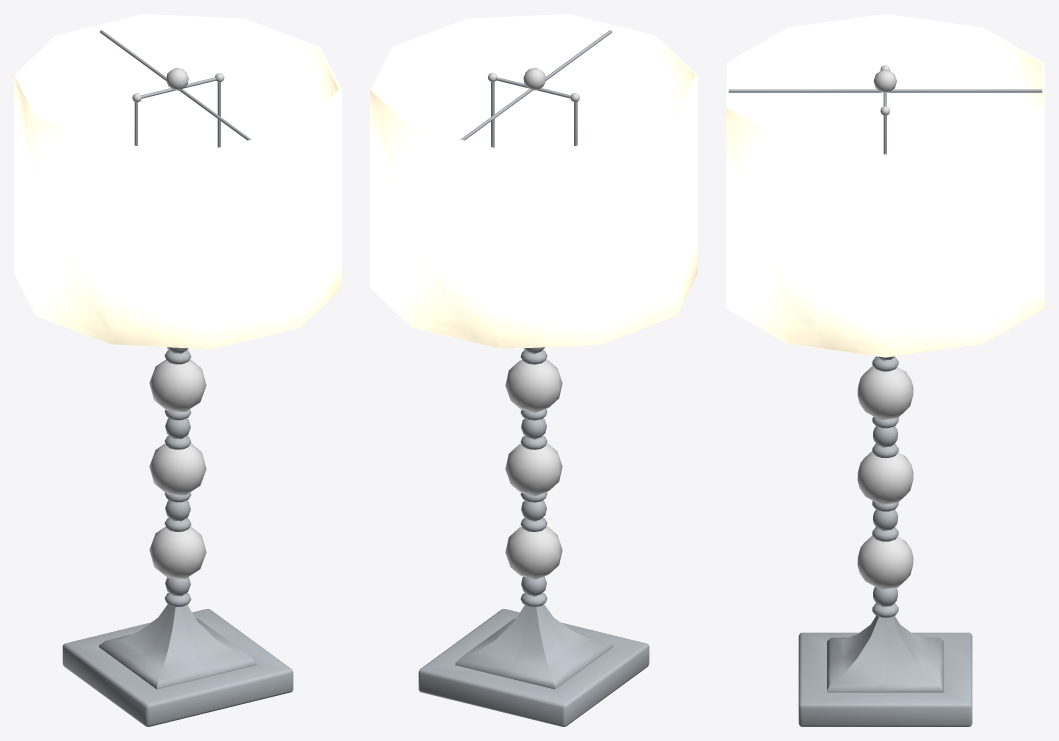
The model's file is Lights_Table_Lamps_4.fbx.
3 views of the same model, side by side, from view 1: azimuth 30°, elevation 25°; view 2: azimuth 150°, elevation 25°; view 3: azimuth 270°, elevation 25° (orthographic).
Visible parts, largest first — view 1: Cylinder.031; view 2: Cylinder.031; view 3: Cylinder.031.
Part boxes in pixels (bbox=[...]): Cylinder.031: bbox=[14, 14, 341, 726]; Cylinder.031: bbox=[370, 14, 697, 726]; Cylinder.031: bbox=[726, 14, 1044, 726].
Size of the model in its own units: 38.64 by 79.04 by 36.75.
